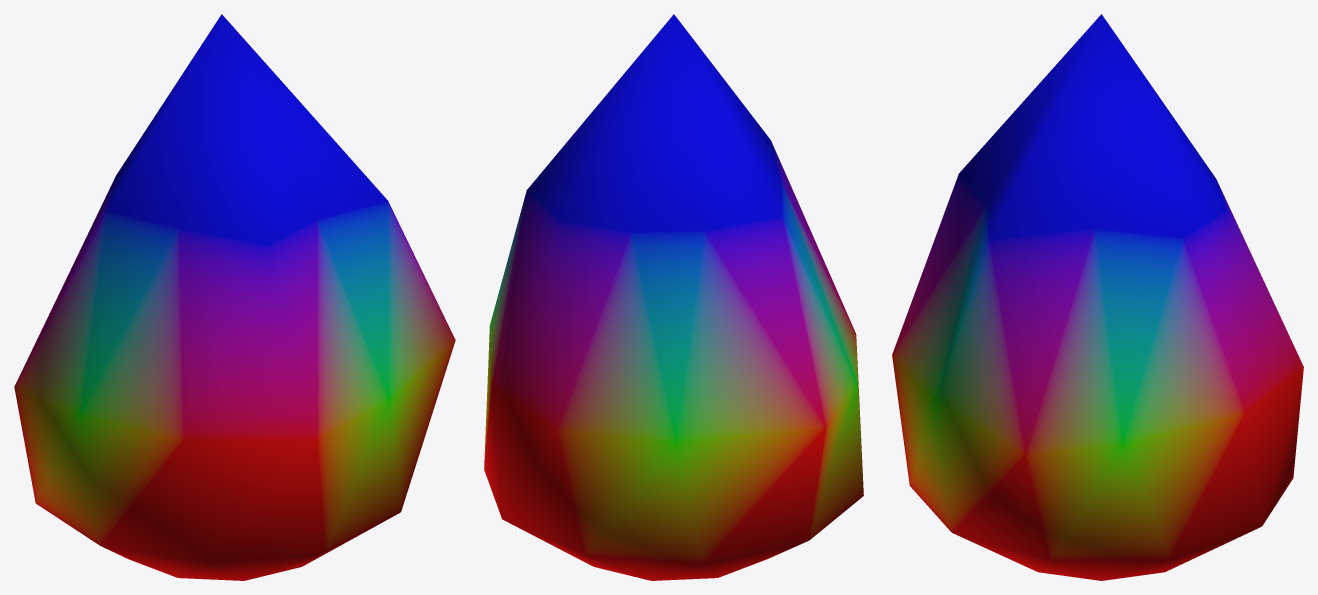
Rendered from Fire01.fbx.
The picture shows the model from 3 angles, left to right: view 1: azimuth 30°, elevation 25°; view 2: azimuth 150°, elevation 25°; view 3: azimuth 270°, elevation 25°; orthographic projection.
Visible parts, largest first — view 1: Kugel; view 2: Kugel; view 3: Kugel.
Part boxes in pixels (<box>): Kugel: <box>14,14,455,580</box>; Kugel: <box>484,14,863,580</box>; Kugel: <box>892,14,1303,580</box>.
Bounding box in the file's own units: 214 × 287 × 204.
